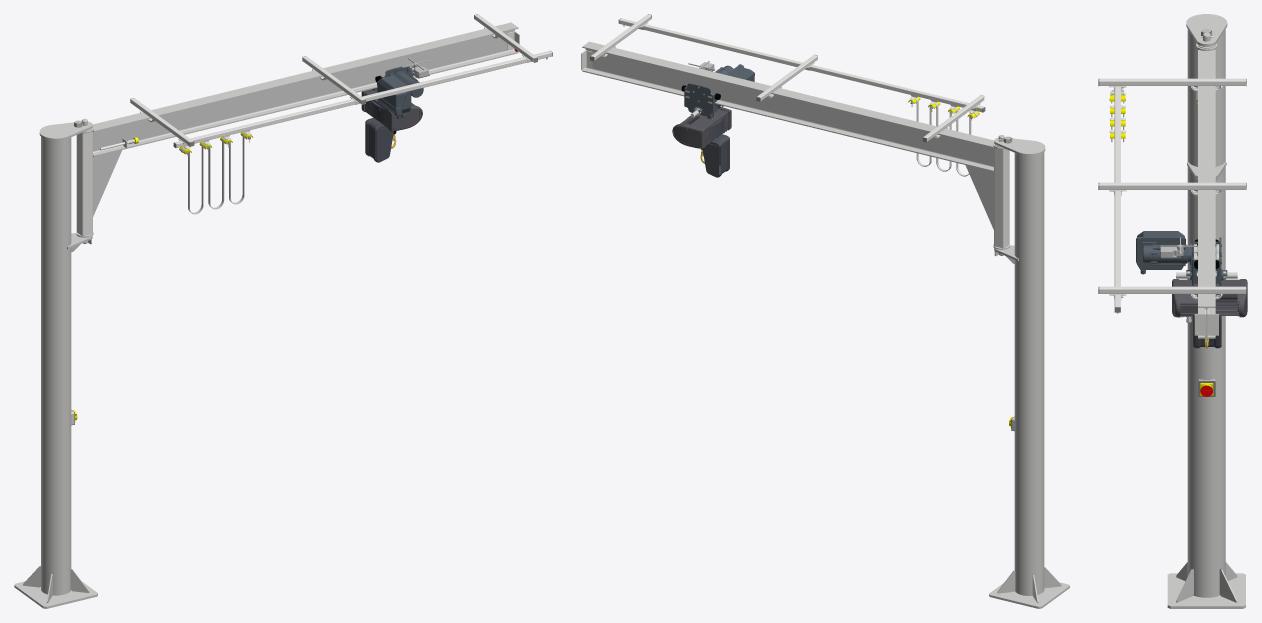
The model's file is pfi-125-3-complete.glb.
3 views of the same model, side by side, from view 1: azimuth 30°, elevation 25°; view 2: azimuth 150°, elevation 25°; view 3: azimuth 270°, elevation 25° (orthographic). The views are drawn at different scales.
Parts seen in each view (by area): view 1: Node22, Node3, Node6, Node24, Node1, Node2; view 2: Node22, Node3, Node6, Node5, Node2, Node4; view 3: Node22, Node3, Node1, Node5, Node2, Node4, Node8, Node6.
Part boxes in pixels (x1,y1,x2,y2): Node22: (14,22,518,608); Node3: (76,14,551,236); Node6: (365,100,406,162); Node24: (71,133,245,425); Node1: (377,66,411,118); Node2: (361,90,422,131); Node22: (582,41,1069,608); Node3: (581,14,1009,248); Node6: (702,117,729,177); Node5: (684,65,754,116); Node2: (674,107,731,148); Node4: (672,109,728,148); Node22: (1167,14,1245,608); Node3: (1099,78,1245,335); Node1: (1136,231,1197,285); Node5: (1141,231,1227,285); Node2: (1172,279,1247,317); Node4: (1179,279,1247,317); Node8: (1121,29,1212,297); Node6: (1180,316,1221,348).
Size of the model in its own units: 3574 by 3250 by 765.
